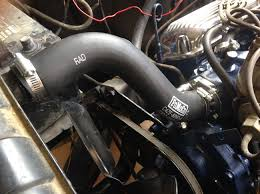radiator_hose: (30, 32, 215, 123)
